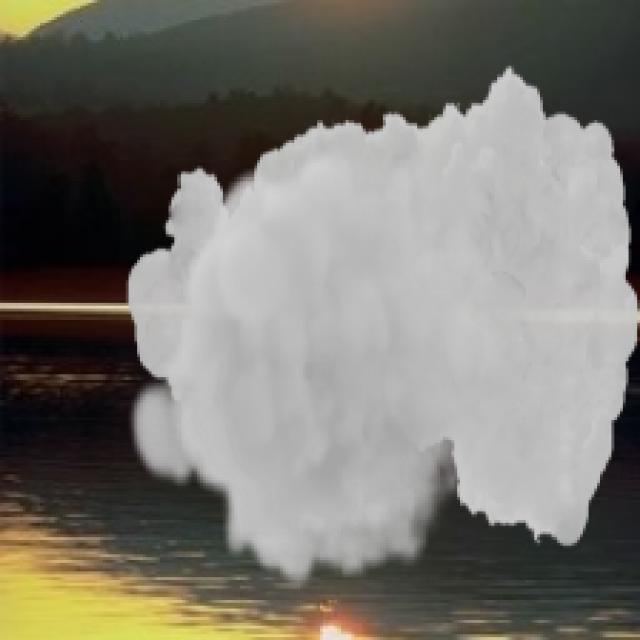Smoke: (125, 63, 638, 592)
